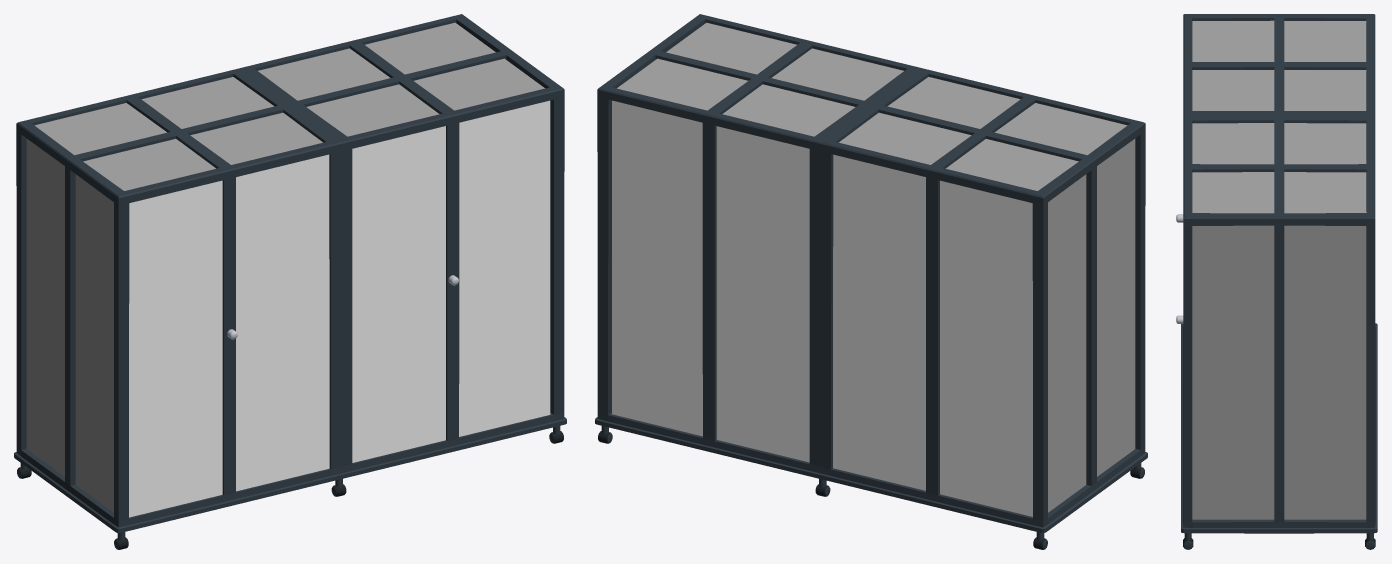
The model's file is SM_GlassBirdCage.fbx.
The picture shows the model from 3 angles, left to right: view 1: azimuth 30°, elevation 25°; view 2: azimuth 150°, elevation 25°; view 3: azimuth 270°, elevation 25°; orthographic projection. The views are drawn at different scales.
Parts seen in each view (by area): view 1: SM_Glass, SM_Cage, Bars, SM_Wheel; view 2: SM_Glass, SM_Cage, Bars, SM_Wheel; view 3: Bars, SM_Cage, SM_Wheel.
Boxes of the visible parts, x1,y1,x2,y2 form: SM_Glass: (129,100,550,517); SM_Cage: (14,14,566,532); Bars: (26,22,544,512); SM_Wheel: (17,426,563,549); SM_Glass: (612,100,1032,516); SM_Cage: (595,14,1147,532); Bars: (617,22,1135,512); SM_Wheel: (598,426,1144,549); Bars: (1192,20,1366,519); SM_Cage: (1181,14,1377,533); SM_Wheel: (1183,533,1375,549).
Bounding box in the file's own units: 303 × 228 × 125.
3 materials, 1 textured.
